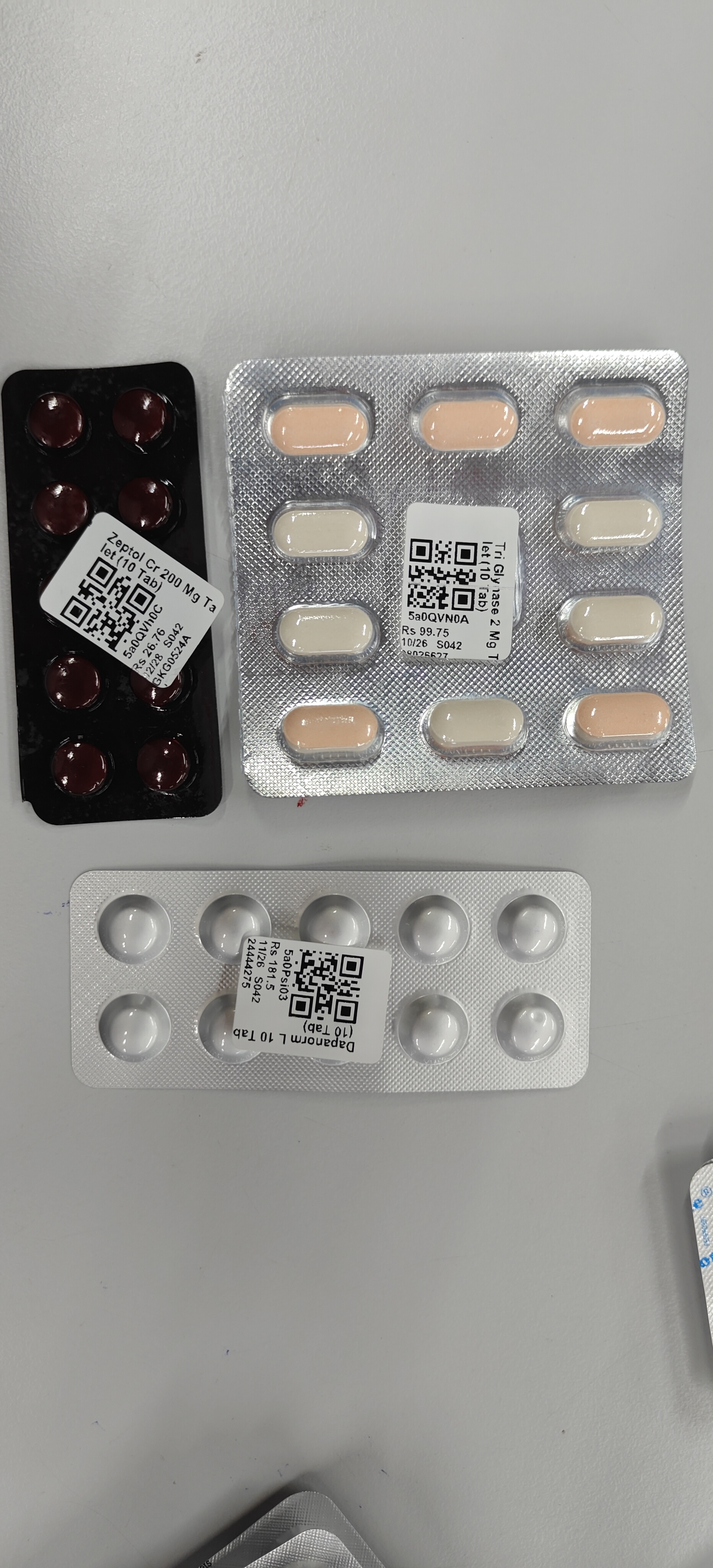qr_code: (59, 557, 156, 654), (288, 948, 364, 1024), (406, 537, 477, 610)
